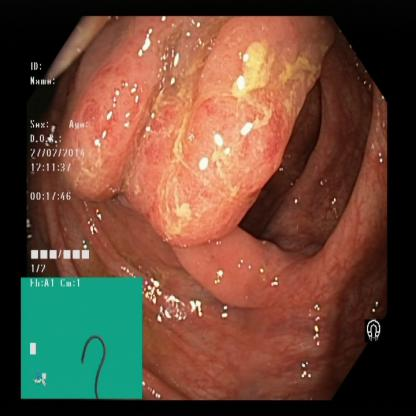Labels: (25, 60, 96, 278), (20, 278, 144, 400)
Polyps: (166, 136, 268, 244), (60, 87, 134, 194), (361, 306, 390, 362)
